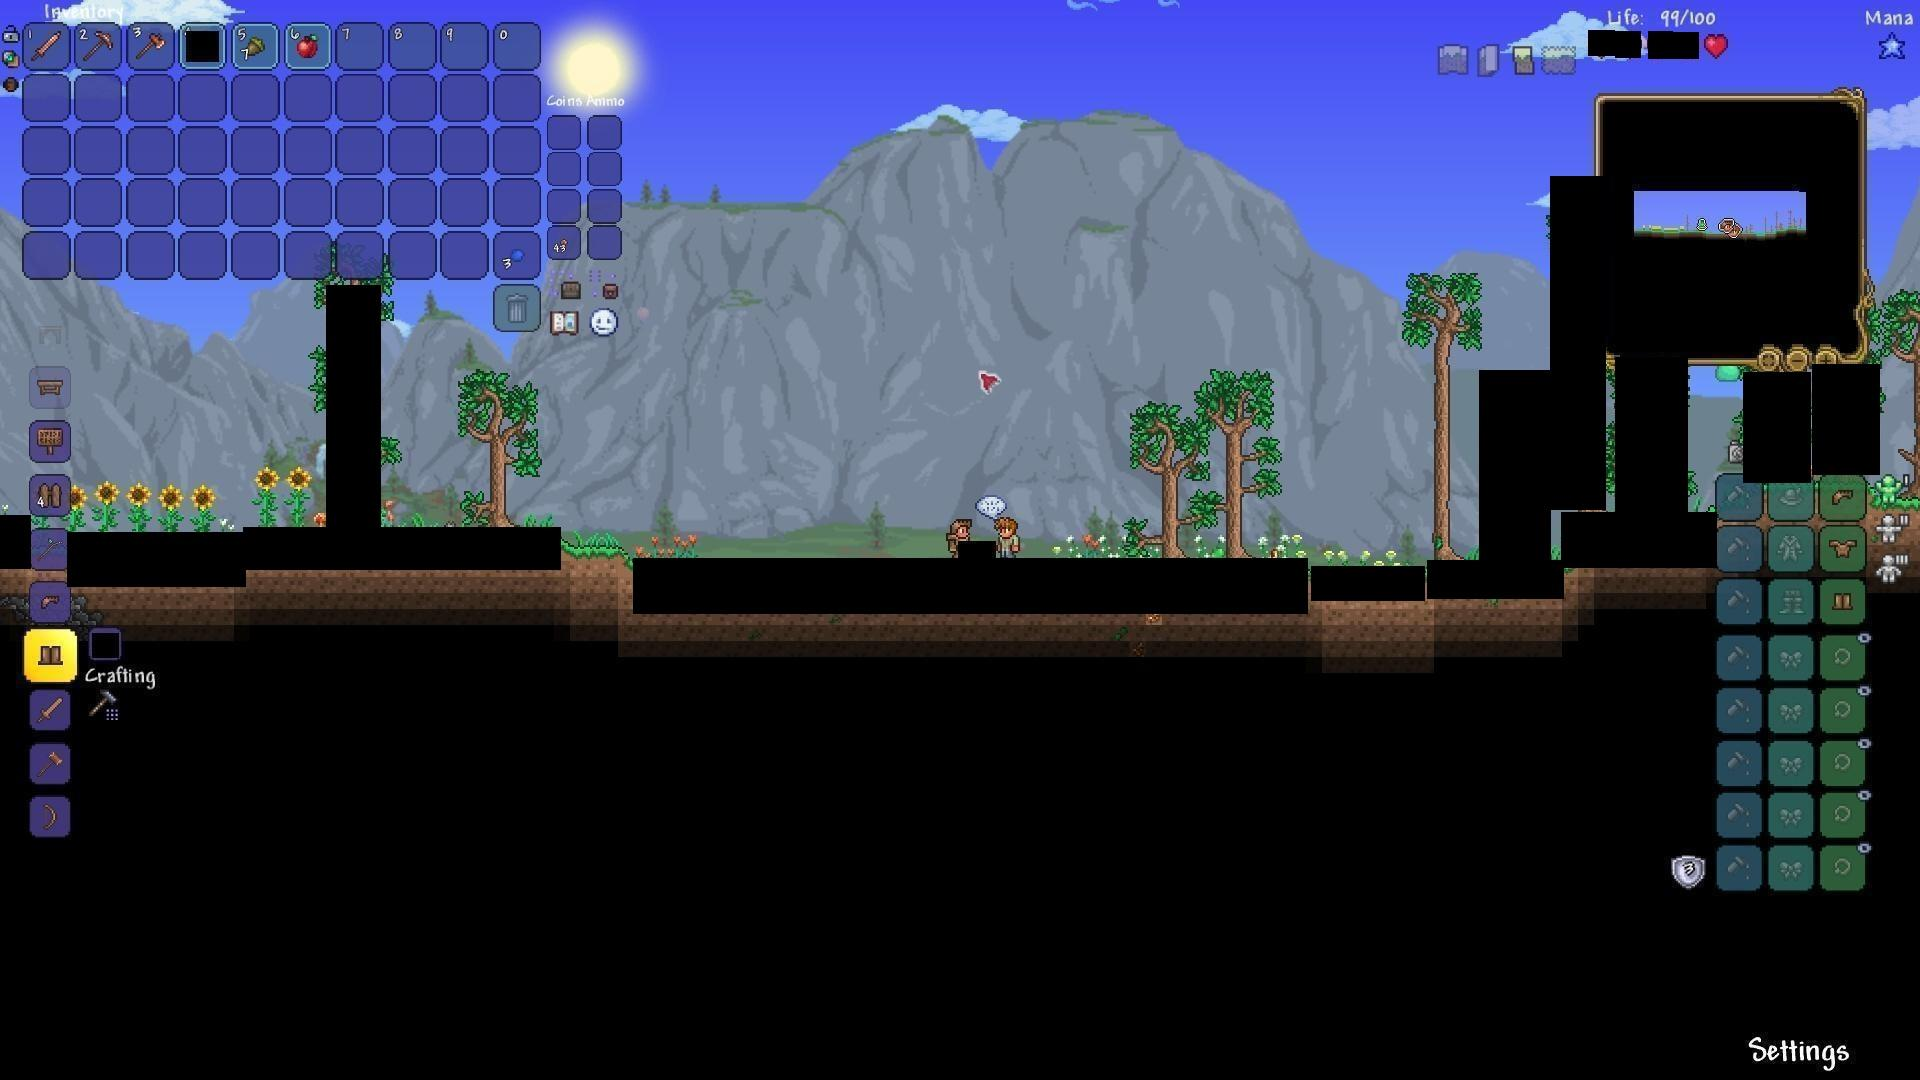breastplate: (1830, 537, 1859, 558)
dirt: (563, 534, 628, 580)
heart: (1704, 33, 1727, 57)
helmet: (1829, 483, 1859, 512), (34, 588, 65, 616)
legs: (34, 640, 63, 669), (1832, 587, 1855, 616)
slime: (1716, 360, 1741, 388)
tree: (1406, 258, 1474, 558), (1200, 360, 1274, 558), (1126, 393, 1199, 558), (462, 363, 534, 525)
workbench: (30, 375, 67, 400)
